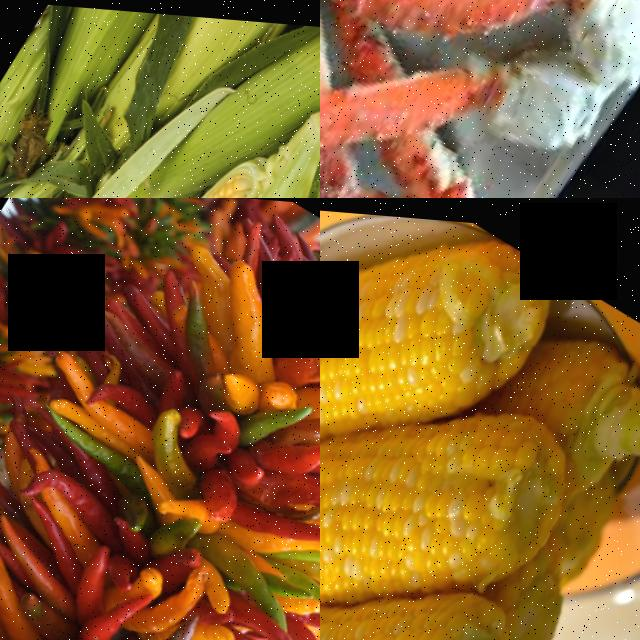chilli: (83, 570, 163, 640)
corn: (320, 344, 587, 640), (320, 207, 570, 462), (320, 518, 521, 640), (40, 134, 261, 198), (320, 232, 372, 503)
crab: (320, 0, 640, 198)
